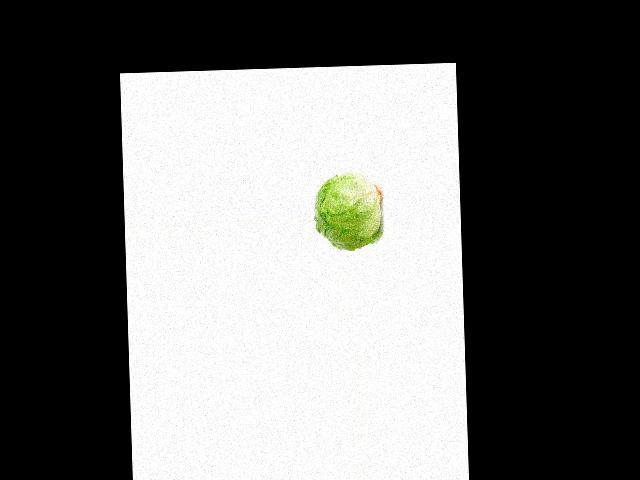lettuce: (313, 176, 382, 251)
